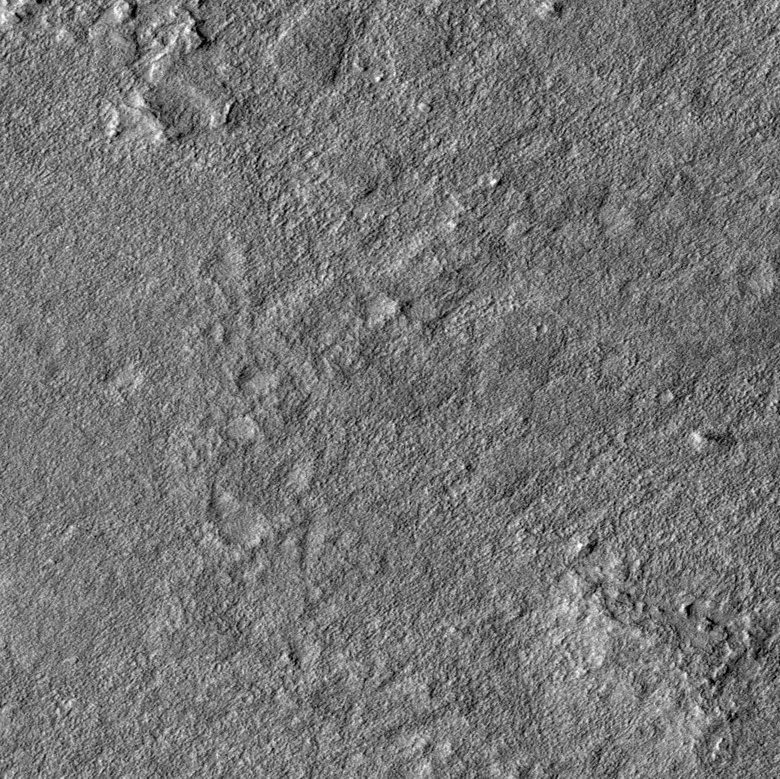dust_devil: (691, 430, 738, 448)
